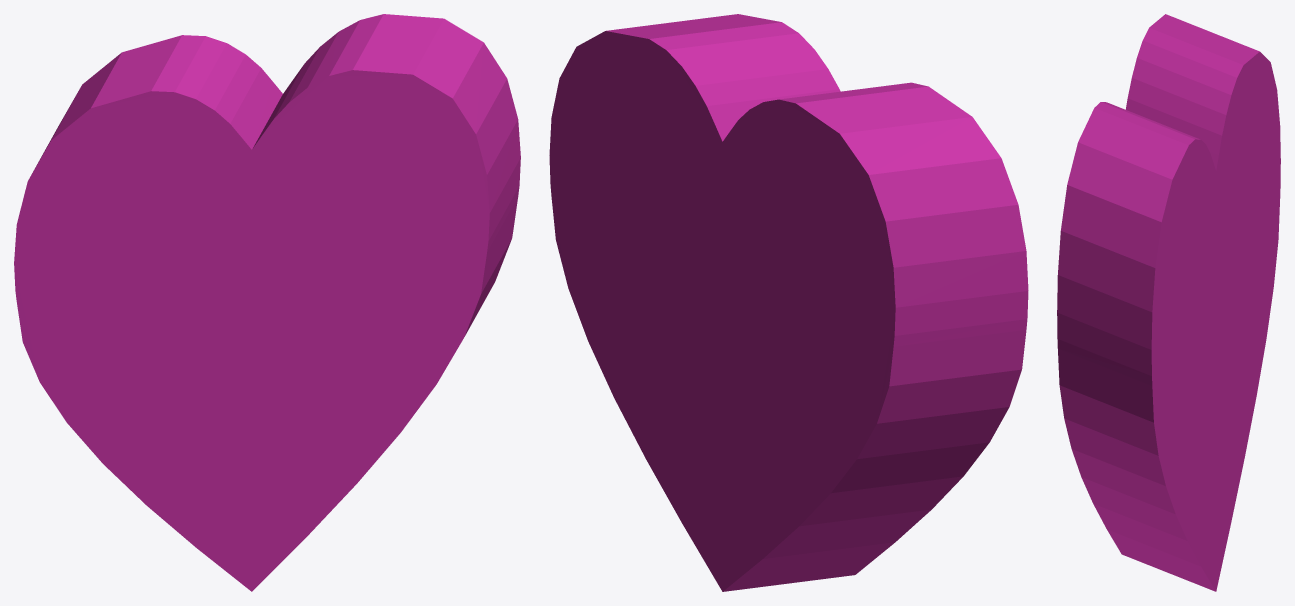
File: Gift8.glb
3 views of the same model, side by side, from view 1: azimuth 30°, elevation 25°; view 2: azimuth 150°, elevation 25°; view 3: azimuth 270°, elevation 25° (orthographic). The views are drawn at different scales.
Visible parts, largest first — view 1: Gift8; view 2: Gift8; view 3: Gift8.
Boxes of the visible parts, left/top/right/bottom form: Gift8: left=14, top=14, right=520, bottom=591; Gift8: left=549, top=14, right=1028, bottom=591; Gift8: left=1057, top=14, right=1280, bottom=591.
Bounding box in the file's own units: 0.009 × 0.009 × 0.00375.
